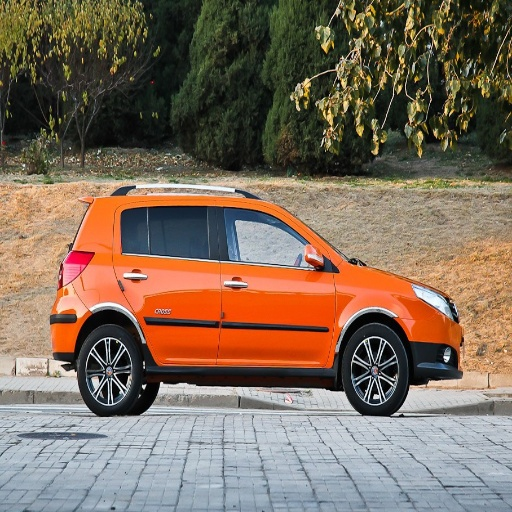back_right_door: (117, 201, 222, 363)
front_right_door: (218, 203, 334, 366)
